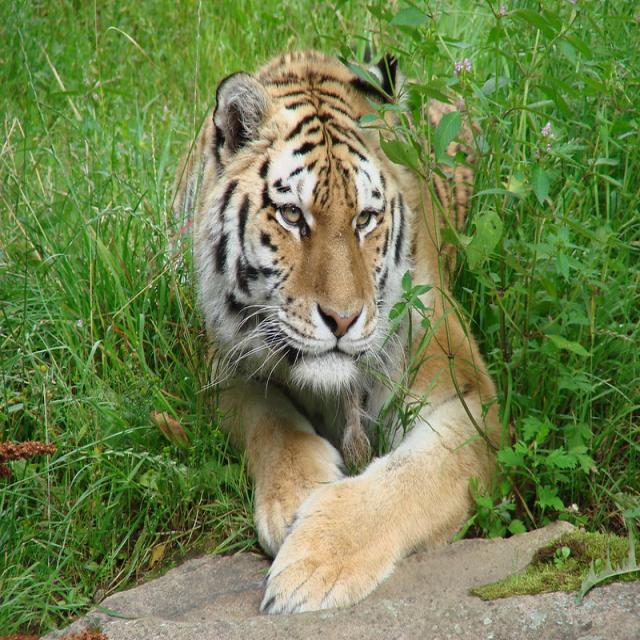Tiger: (167, 44, 530, 612)
